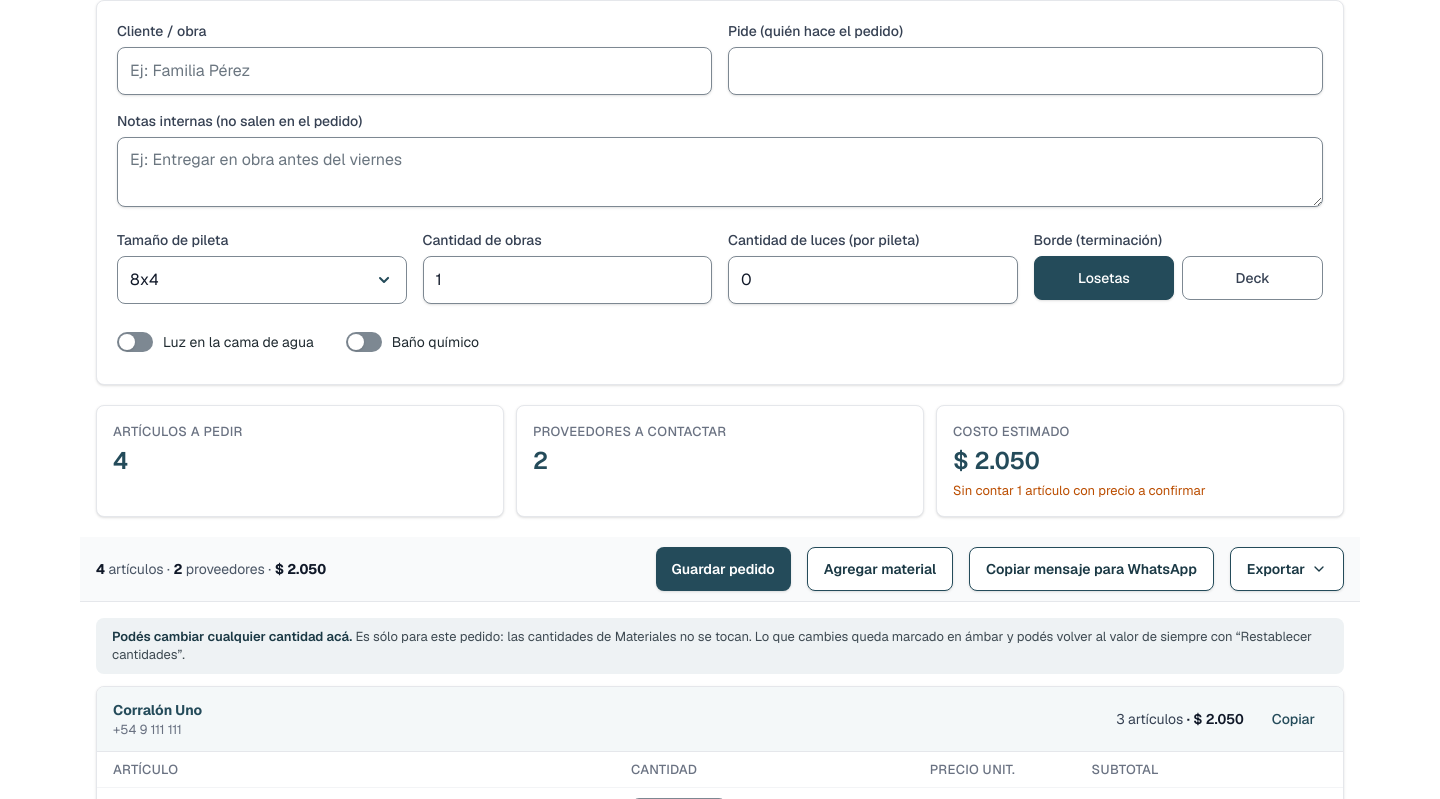
Test: Armar pedido › no deja agregar sin elegir un material ni con cantidad 0
The image size is (1440, 799).
Check: the element named "Resumen del pedido" is shown, box [96, 405, 1344, 517]
Click the button "Agregar material".
click(880, 569)  # box [807, 547, 953, 591]
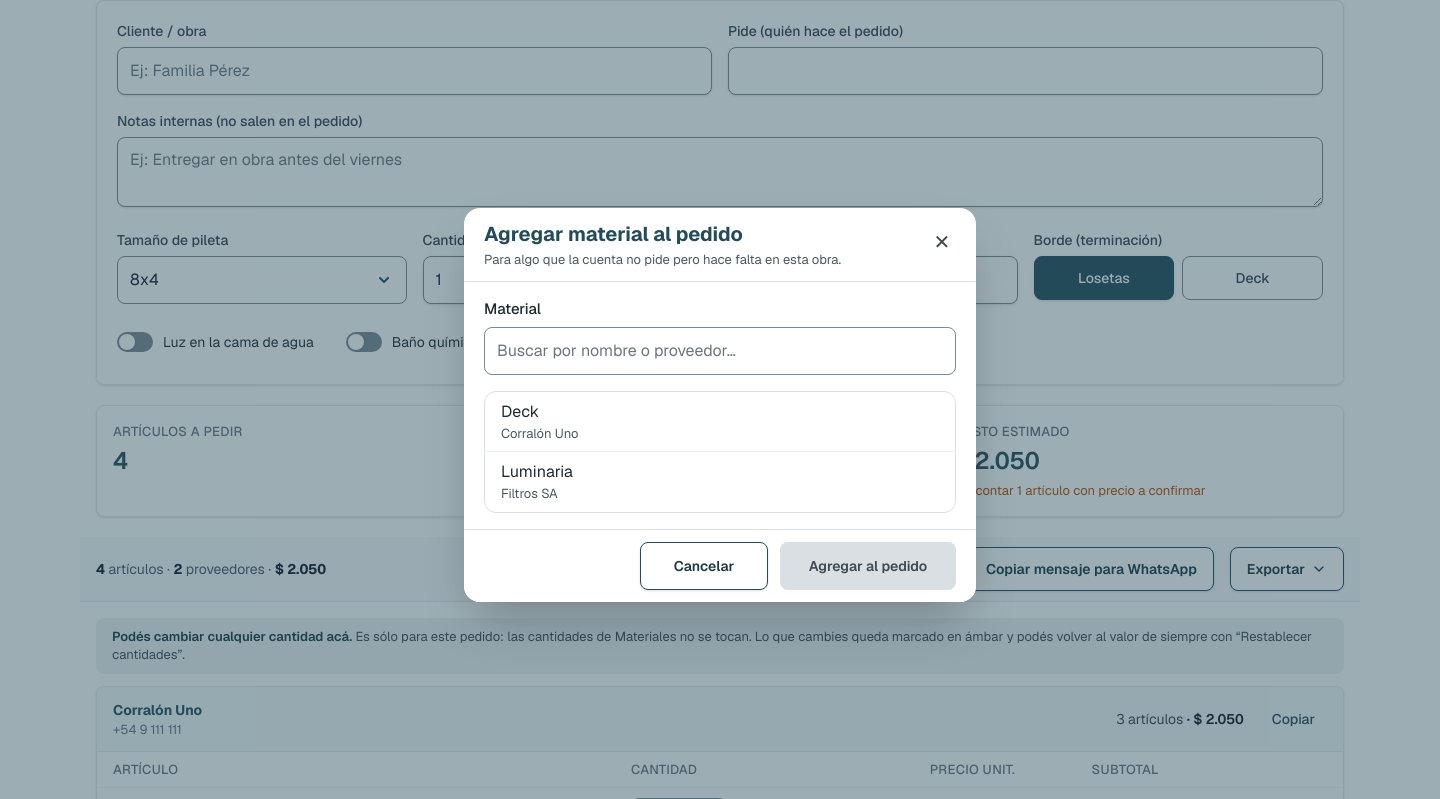
Check: the button "Agregar al pedido" is disabled, box [780, 542, 956, 590]
Click the button "Deck Corralón Uno".
click(520, 411)  # box [485, 392, 955, 451]
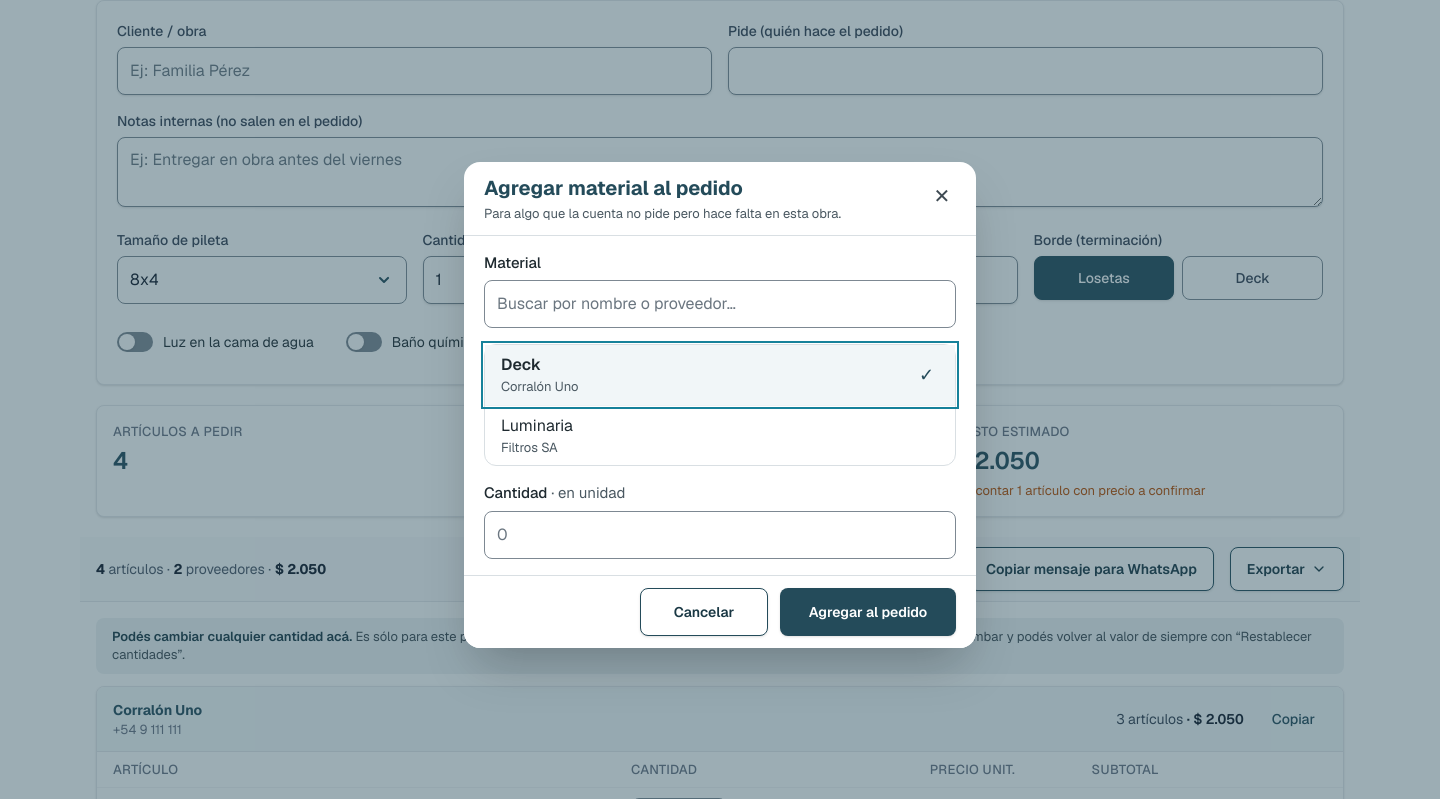
Click the button "Agregar al pedido".
click(868, 612)  # box [780, 588, 956, 636]
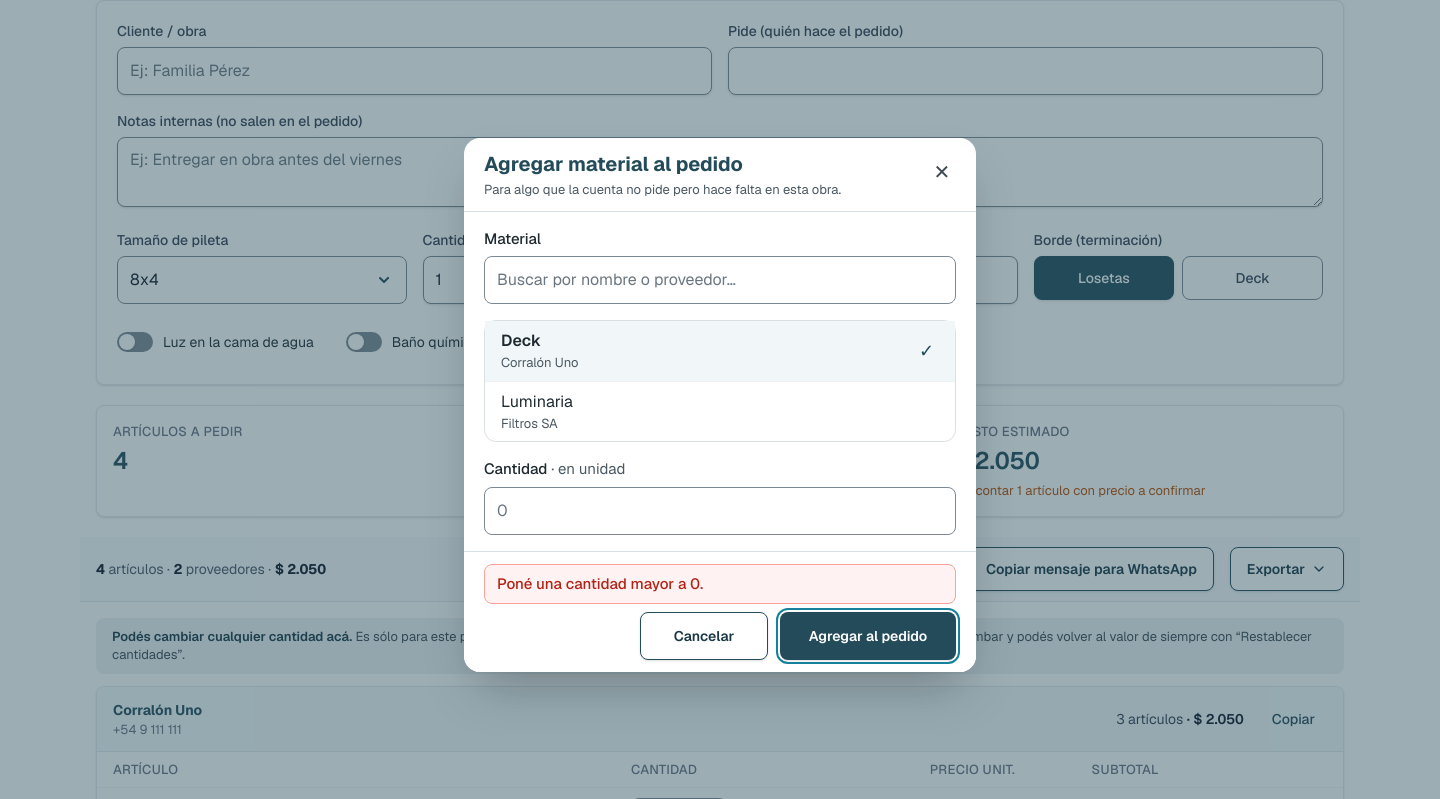
Check: the text "Poné una cantidad mayor a 0." is shown, box [484, 564, 956, 604]
